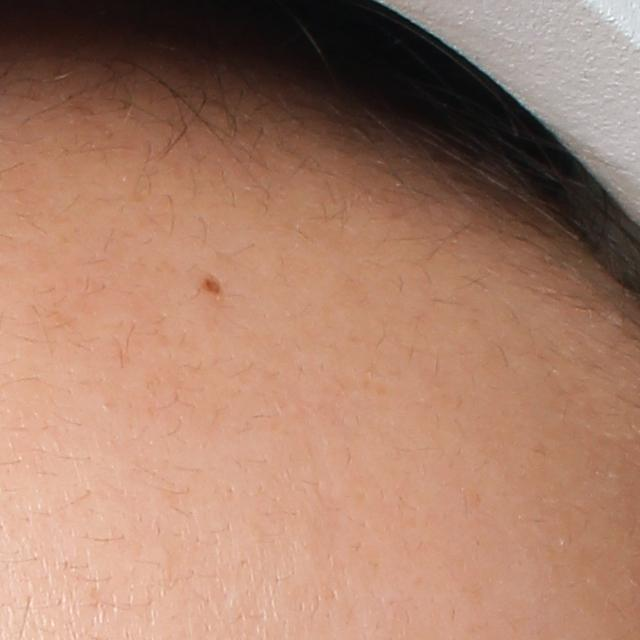nevus: (198, 272, 223, 300)
